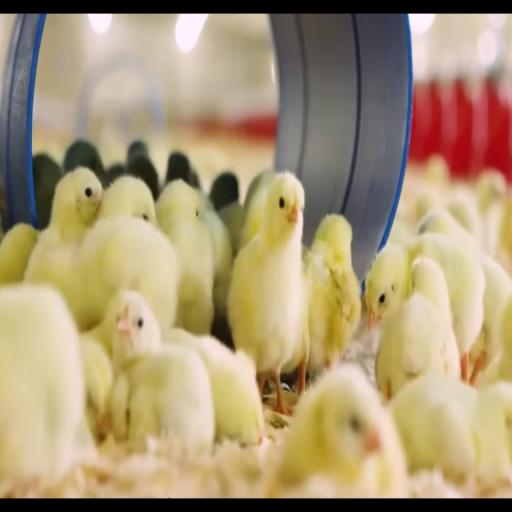chick: (228, 172, 304, 413), (273, 364, 406, 497), (366, 233, 485, 381), (0, 284, 84, 479), (112, 297, 214, 451), (391, 375, 511, 486), (66, 216, 180, 330), (376, 258, 460, 399), (164, 330, 263, 445), (410, 234, 485, 381), (24, 168, 104, 303), (156, 180, 214, 334), (306, 215, 361, 370), (412, 257, 460, 378), (83, 290, 161, 359), (470, 254, 511, 384), (470, 255, 511, 383), (104, 291, 162, 368), (49, 167, 104, 243), (282, 256, 310, 396), (201, 209, 233, 316), (81, 335, 113, 440), (478, 297, 511, 386), (239, 171, 275, 249), (99, 176, 156, 225), (476, 170, 507, 255), (418, 208, 477, 249), (0, 223, 38, 285), (33, 154, 62, 229), (447, 192, 482, 247), (63, 139, 105, 184), (127, 156, 159, 201), (218, 202, 244, 256), (476, 170, 507, 215), (244, 170, 275, 210), (210, 172, 239, 210), (497, 192, 511, 258), (412, 189, 440, 222), (165, 152, 192, 186), (425, 155, 450, 184), (388, 216, 414, 243), (105, 163, 126, 189), (127, 140, 149, 164), (0, 179, 6, 241), (190, 169, 202, 190)
